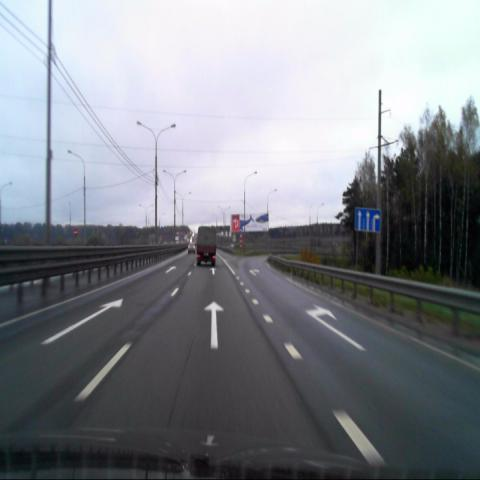5_15_1: (354, 206, 380, 232)
